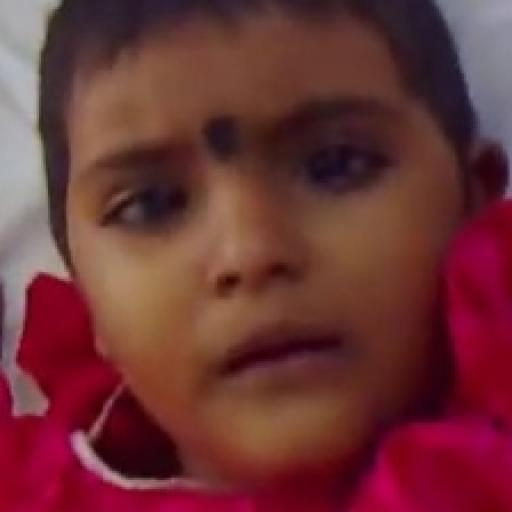Autism: (53, 5, 462, 512)
